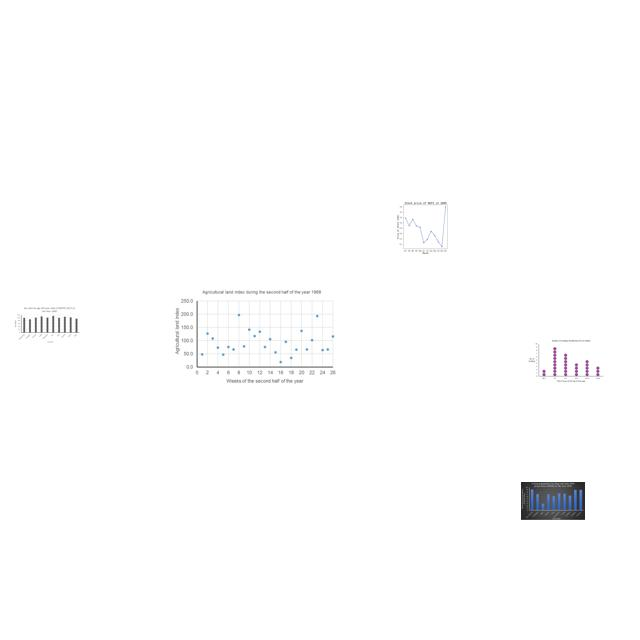Graph: (173, 287, 337, 386), (383, 198, 466, 255), (526, 338, 605, 384), (14, 306, 80, 343), (521, 482, 585, 520)
